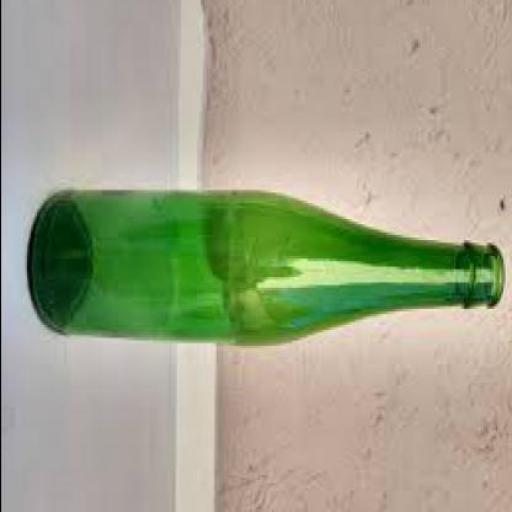glass: (26, 190, 506, 345)
